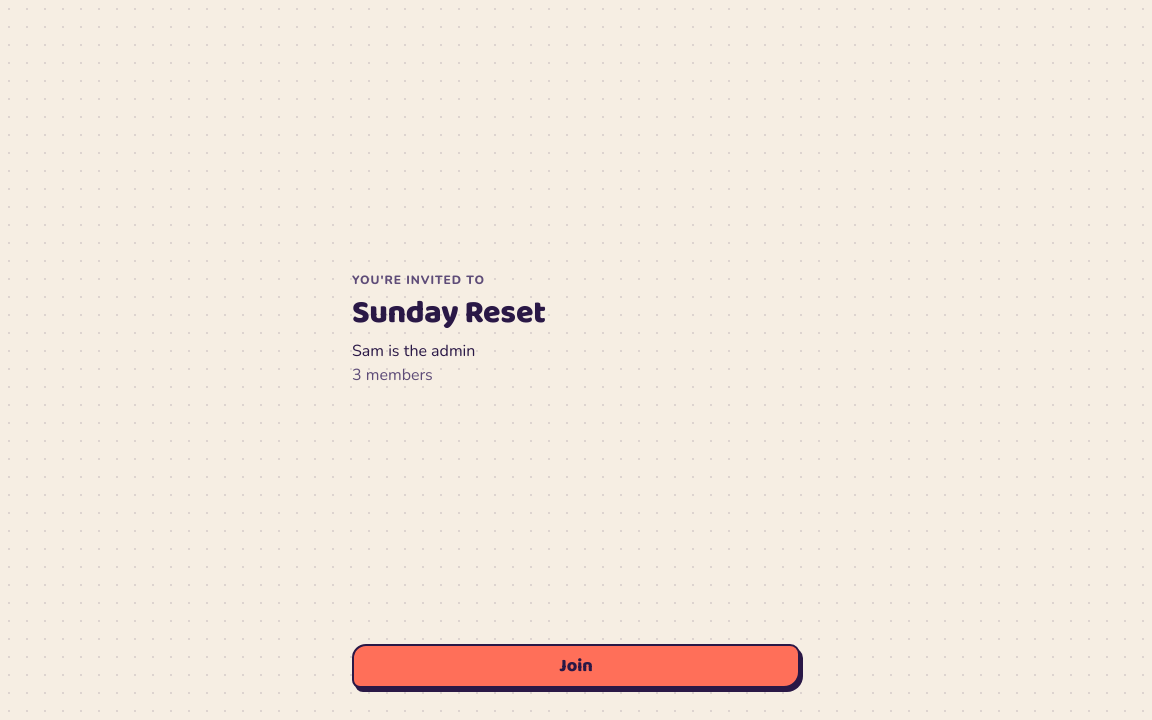
join screen (/join/{code}) › an online failure at Join shows an Inline retry above Join; Retry joins
Later steps or results of the test are not shown.
Click the button "Join".
click(576, 666)  # box [352, 644, 800, 688]
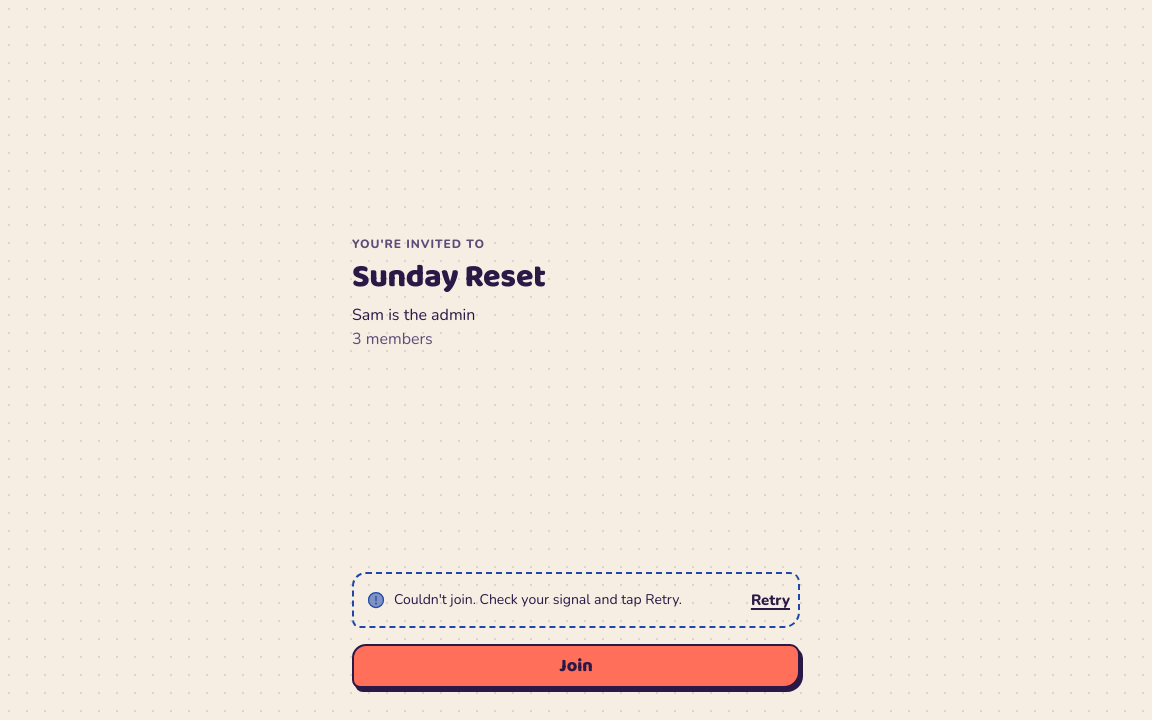
Expected: the message shows "Couldn't join. Check your signal and tap Retry.", [394, 590, 682, 609]
